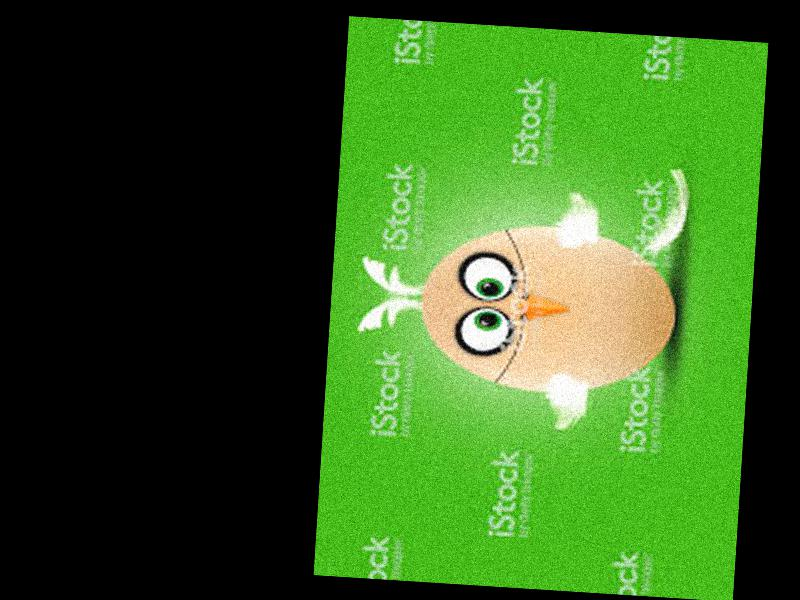Eggs: (416, 218, 682, 397)
